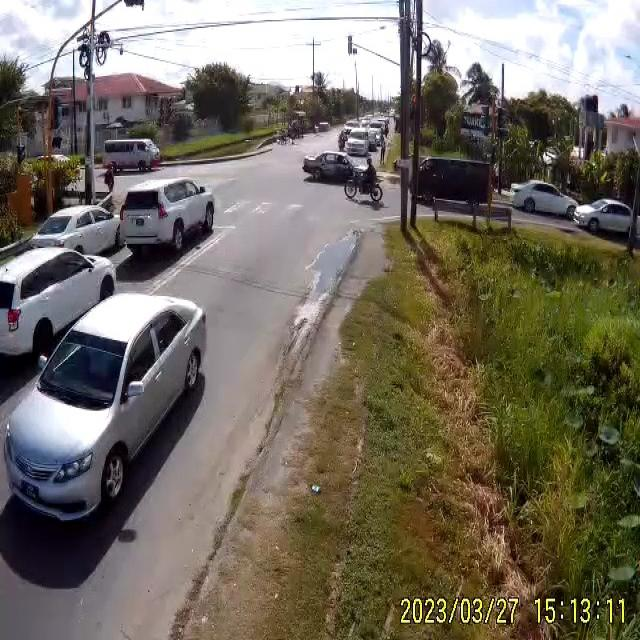car: (2, 292, 208, 522), (0, 242, 118, 376), (118, 177, 216, 252), (31, 205, 121, 255), (509, 182, 580, 220), (574, 200, 634, 238), (105, 139, 159, 174), (303, 151, 354, 183), (344, 128, 373, 156), (315, 122, 329, 132)
motorbike: (345, 164, 384, 205)
